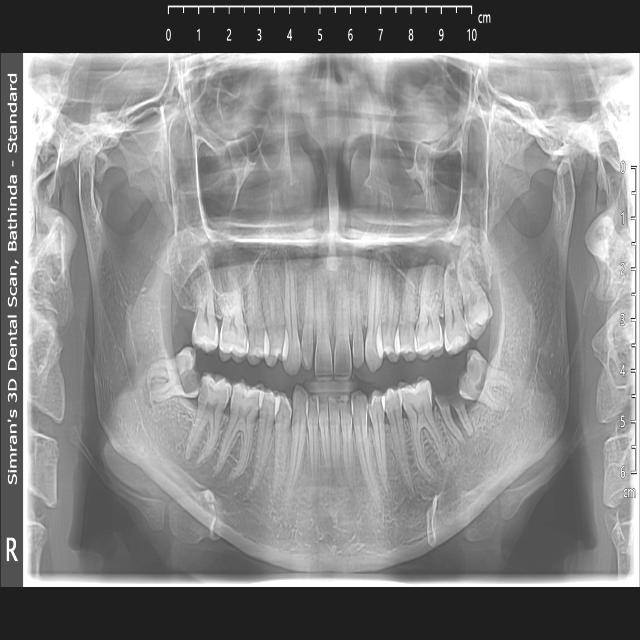Caries: (461, 356, 480, 391), (181, 364, 201, 393), (197, 383, 209, 403), (462, 296, 468, 328)
Mandibular Canal: (402, 301, 547, 522), (108, 304, 239, 506)
Periapical lesion: (141, 372, 154, 410)
Root Piece: (434, 390, 476, 449)
impacted tooth: (145, 346, 198, 410)
maxillary sinus: (161, 74, 276, 297), (381, 68, 492, 297)
